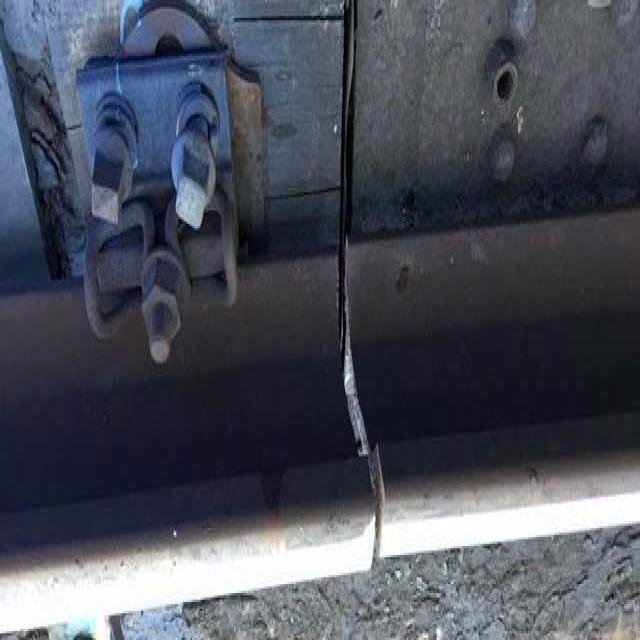broken_rail_high: (329, 255, 402, 564)
